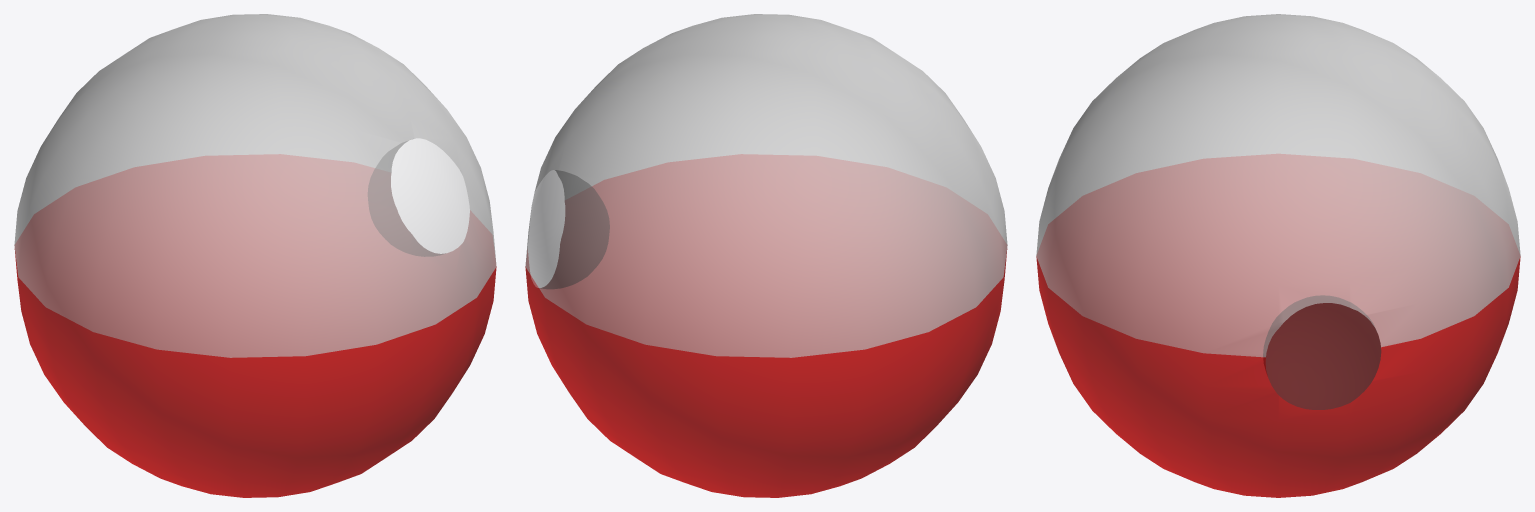
The model's file is Poke-Ball.fbx.
3 renders of one model, left to right at view 1: azimuth 30°, elevation 25°; view 2: azimuth 150°, elevation 25°; view 3: azimuth 270°, elevation 25°, orthographic.
Visible parts, largest first — view 1: pSphere6; view 2: pSphere6; view 3: pSphere6.
Part boxes in pixels (x1,y1,x2,y2): pSphere6: (14,14,496,497); pSphere6: (525,14,1007,497); pSphere6: (1036,14,1520,497).
Bounding box in the file's own units: 9.65 × 9.69 × 9.69.
